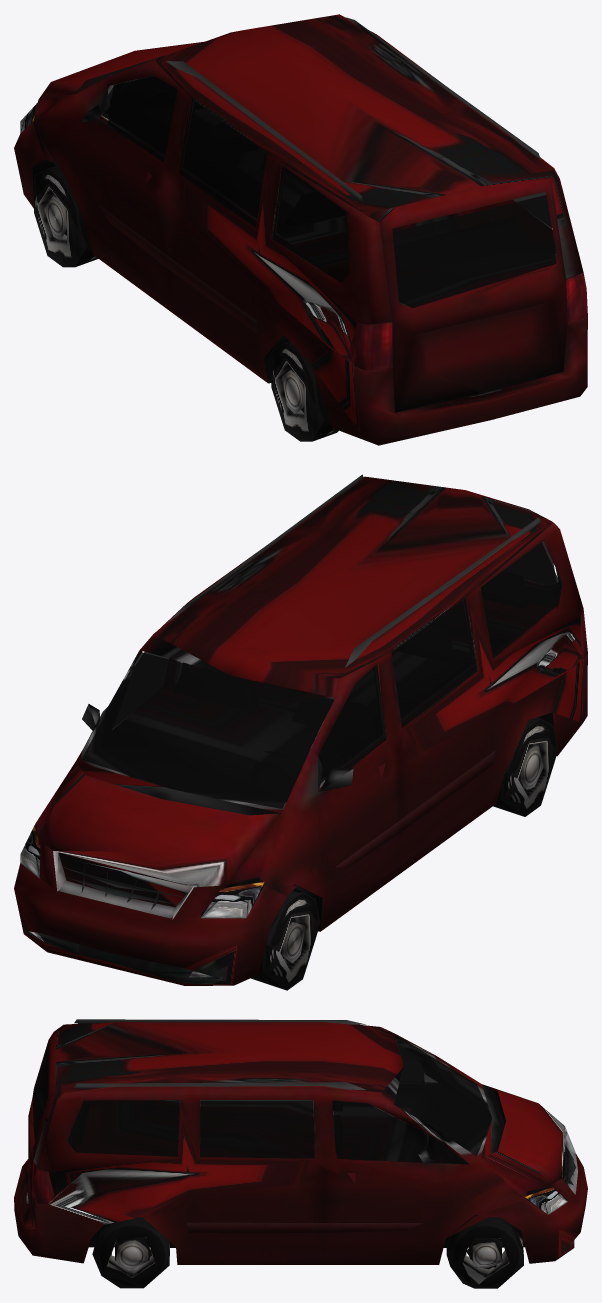
Rendered from c_van_lo.glb.
The picture shows the model from 3 angles, top to bottom: view 1: azimuth 30°, elevation 25°; view 2: azimuth 150°, elevation 25°; view 3: azimuth 270°, elevation 25°; orthographic projection. The views are drawn at different scales.
Parts seen in each view (by area): view 1: body|Body_2, body|glass, body|Wheel_1, body|Optics_2; view 2: body|Body_2, body|glass, body|Wheel_1, body|Optics_2; view 3: body|Body_2, body|glass, body|Wheel_1, body|Optics_2.
Boxes of the visible parts, x1,y1,x2,y2 form: body|Body_2: (14, 14, 587, 445); body|glass: (108, 76, 556, 307); body|Wheel_1: (34, 166, 338, 441); body|Optics_2: (20, 102, 587, 370); body|Body_2: (14, 474, 587, 985); body|glass: (81, 541, 560, 808); body|Wheel_1: (250, 717, 558, 990); body|Optics_2: (20, 609, 587, 977); body|Body_2: (14, 1019, 587, 1264); body|glass: (32, 1034, 491, 1164); body|Wheel_1: (92, 1217, 523, 1288); body|Optics_2: (31, 1161, 573, 1244).
Bounding box in the file's own units: 1.87 × 1.75 × 4.6.
Materials: 4 (3 with a texture image).
